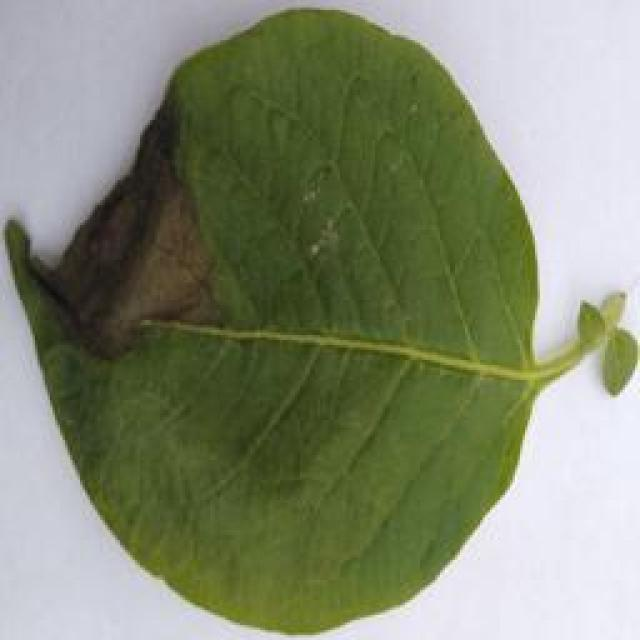Potato_Late_Blight: (5, 11, 620, 633)
